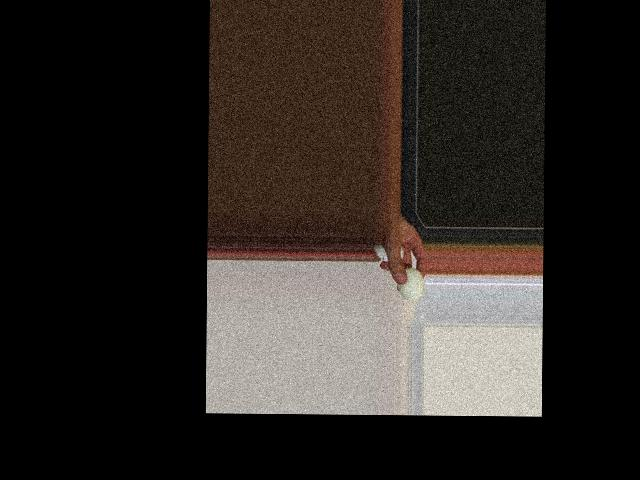egg: (396, 267, 424, 301)
